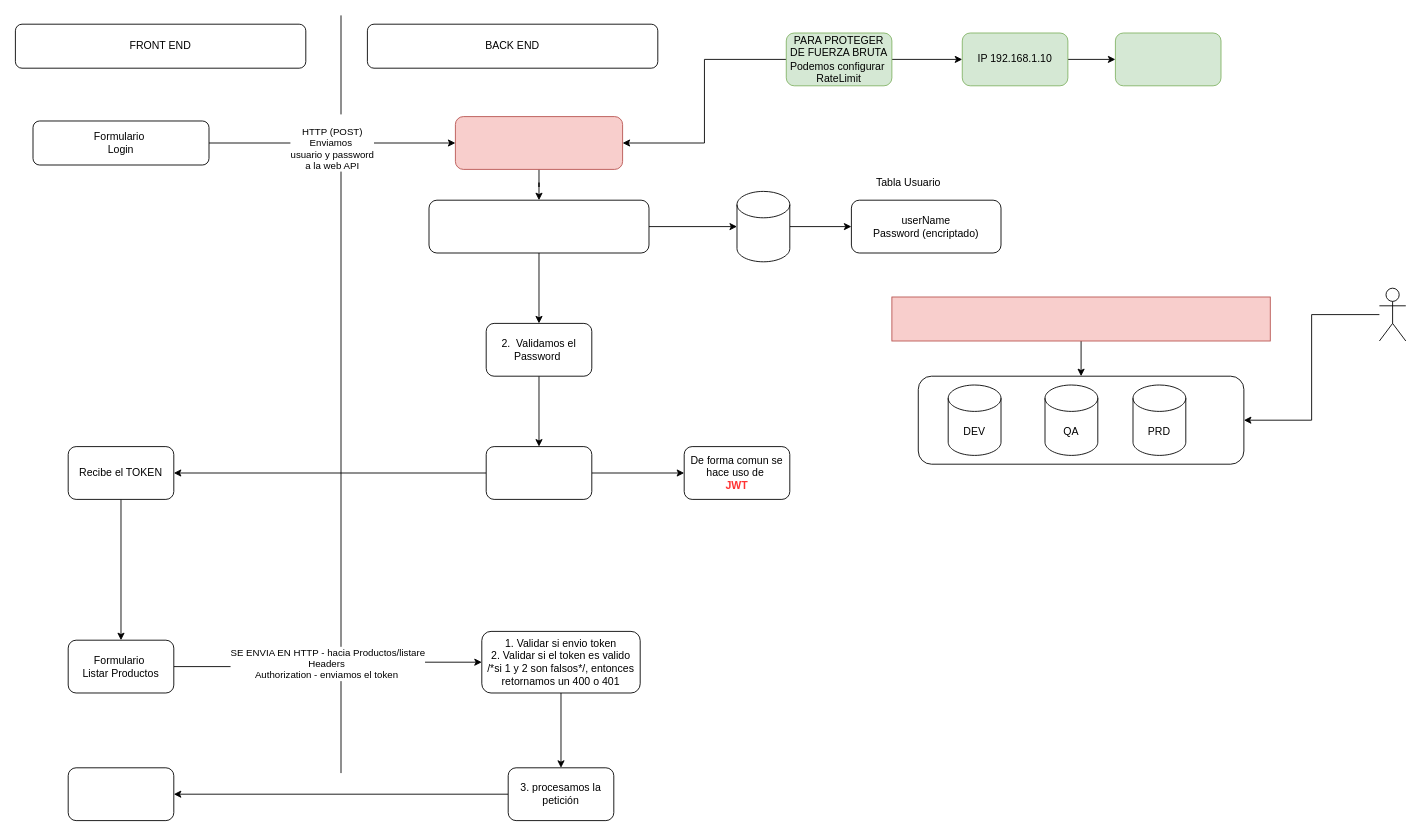
The diagram is 1421 pixels wide and 836 high, and some of its shapes have lost their labels. The centre of each missing label's shape, as x and y in pixels:
1. Validaciones del usuario (exista, activo, que no tenga alguna restricción): the point at 538,226
3. Se debe crear un token de ACCESO: the point at 538,472
Actor: the point at 1392,314
en 1 seg puede hacer un maximo de 10 peticiones: the point at 1168,59
LoginController: the point at 539,142
Que pasa cuando encriptamos en DB (quien es el dueño de la DB) => DBA: the point at 1080,318
Retornamos la lista de productos para poder pintarlo en el formulario: the point at 120,794
